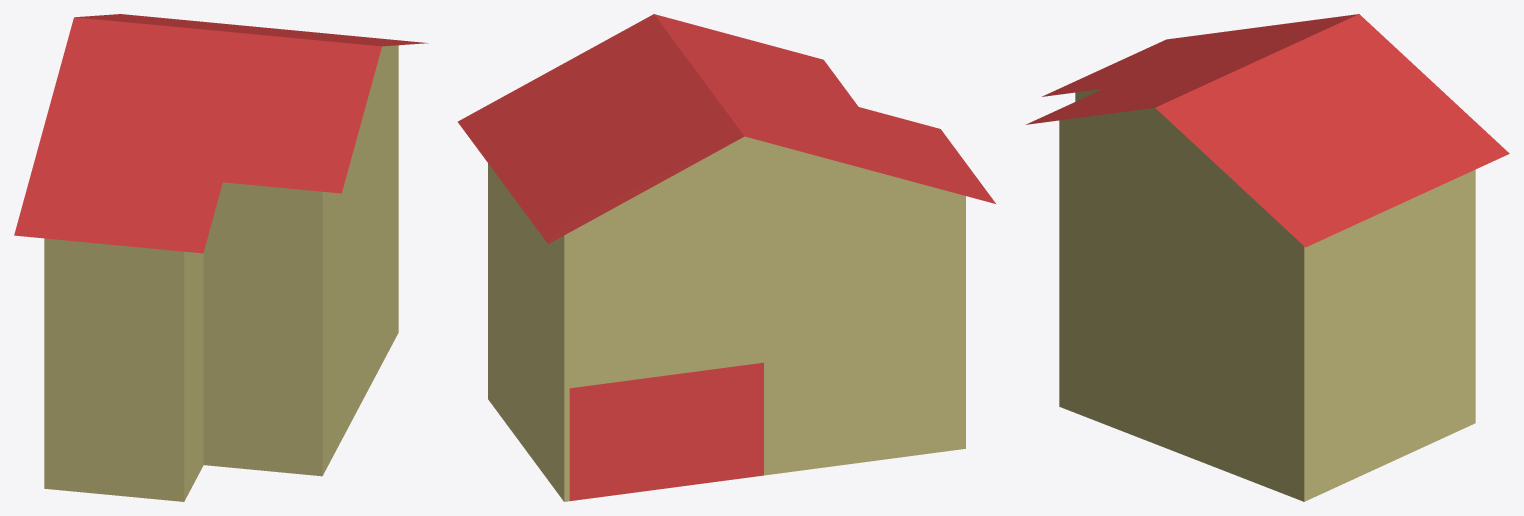
3 renders of one model, left to right at view 1: azimuth 30°, elevation 25°; view 2: azimuth 150°, elevation 25°; view 3: azimuth 270°, elevation 25°, orthographic. The views are drawn at different scales.
Parts seen in each view (by area): view 1: group_5, group_3, group_4; view 2: group_5, group_3, group_6, group_4; view 3: group_5, group_3, group_4.
Boxes of the visible parts, x1,y1,x2,y2 form: group_5: (44, 45, 398, 501); group_3: (44, 14, 428, 252); group_4: (14, 14, 376, 253); group_5: (488, 136, 965, 501); group_3: (458, 14, 965, 243); group_6: (569, 362, 763, 500); group_4: (528, 14, 995, 243); group_5: (1059, 89, 1475, 501); group_3: (1025, 14, 1508, 247); group_4: (1042, 14, 1509, 181).
Bounding box in the file's own units: 16.67 × 15.02 × 11.97.
